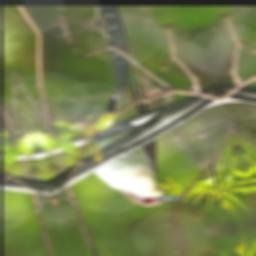Cuckoo: (46, 18, 186, 217)
